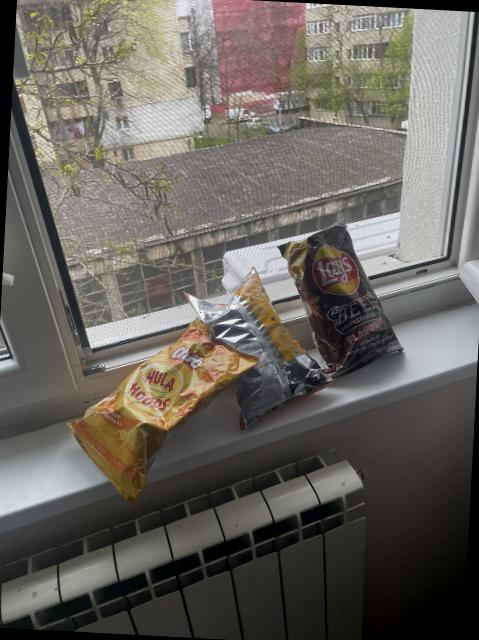Chio Cascaval 125g: (185, 270, 331, 430)
Chio Hula Hoops Cheese 70g: (62, 306, 264, 502)
Lays Beef Grilled Ribs 125g: (273, 220, 409, 378)
